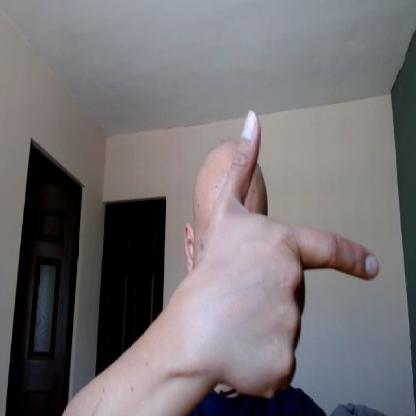G: (204, 108, 382, 394)
